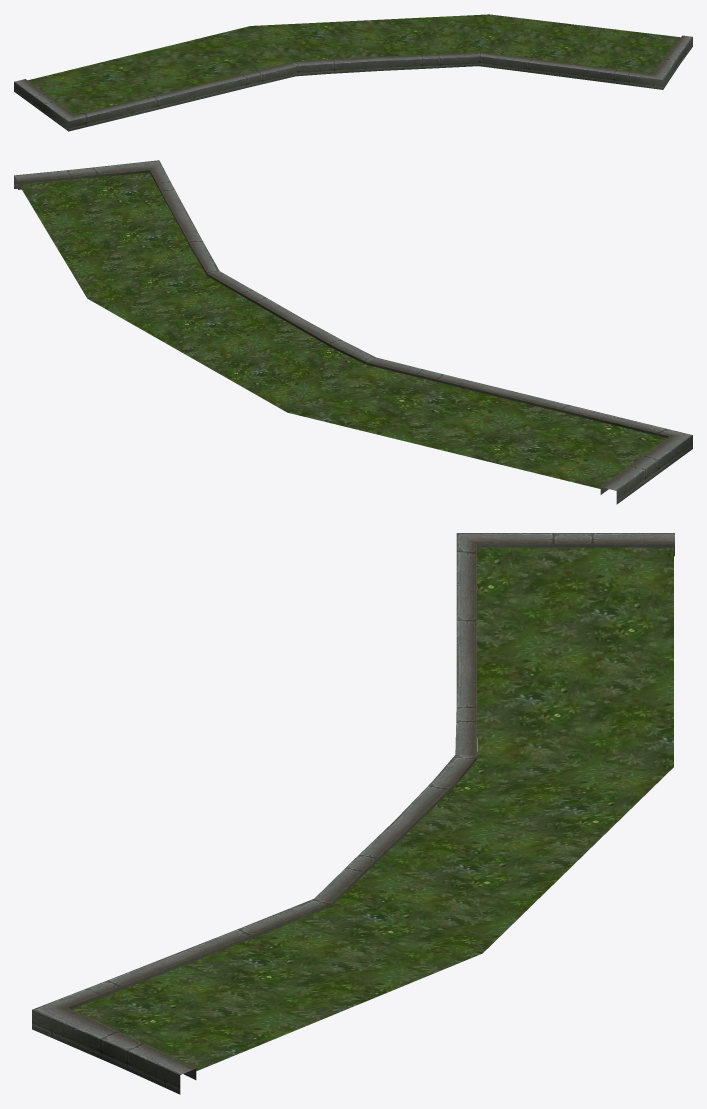
File: zc_suzhou_huatan03.FBX
3 renders of one model, top to bottom at view 1: azimuth 30°, elevation 25°; view 2: azimuth 150°, elevation 25°; view 3: azimuth 270°, elevation 25°, orthographic. The views are drawn at different scales.
Parts seen in each view (by area): view 1: zc_suzhou_huatan03; view 2: zc_suzhou_huatan03; view 3: zc_suzhou_huatan03.
Boxes of the visible parts, x1,y1,x2,y2 form: zc_suzhou_huatan03: (14, 14, 692, 131); zc_suzhou_huatan03: (14, 160, 692, 504); zc_suzhou_huatan03: (32, 533, 674, 1094).
Size of the model in its own units: 3646 by 61.94 by 1828.
Materials: 2 (2 with a texture image).
